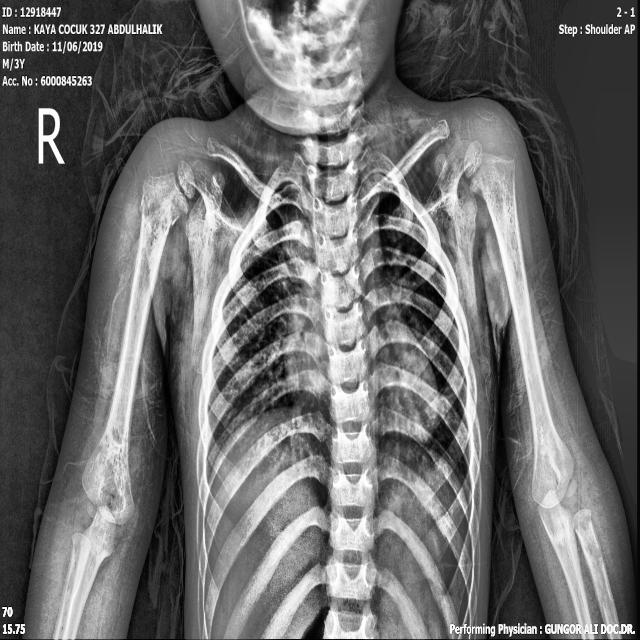Fracture: (134, 204, 182, 250)
